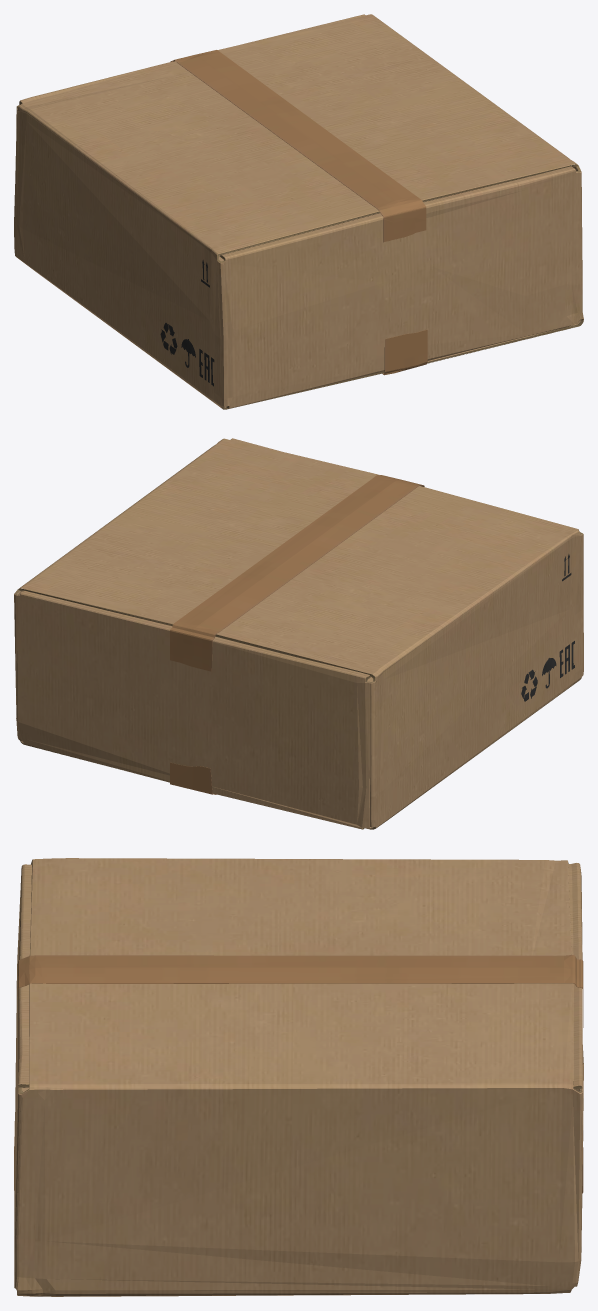
Rendered from FlatBox_A05_26x26x11cm_PR_NVD_01.glb.
3 renders of one model, top to bottom at view 1: azimuth 30°, elevation 25°; view 2: azimuth 150°, elevation 25°; view 3: azimuth 270°, elevation 25°, orthographic. The views are drawn at different scales.
Parts seen in each view (by area): view 1: M_FlatBox_Cardboard_01_0, M_FlatBox_Decal_01_0; view 2: M_FlatBox_Cardboard_01_0, M_FlatBox_Decal_01_0; view 3: M_FlatBox_Cardboard_01_0, M_FlatBox_Decal_01_0.
Part boxes in pixels (left/top/right/bottom): M_FlatBox_Cardboard_01_0: left=14, top=14, right=583, bottom=409; M_FlatBox_Decal_01_0: left=16, top=50, right=583, bottom=409; M_FlatBox_Cardboard_01_0: left=14, top=438, right=583, bottom=829; M_FlatBox_Decal_01_0: left=14, top=475, right=582, bottom=829; M_FlatBox_Cardboard_01_0: left=14, top=858, right=583, bottom=1296; M_FlatBox_Decal_01_0: left=14, top=860, right=583, bottom=1287.
Size of the model in its own units: 0.256 by 0.1104 by 0.2627.
2 materials, 2 textured.
